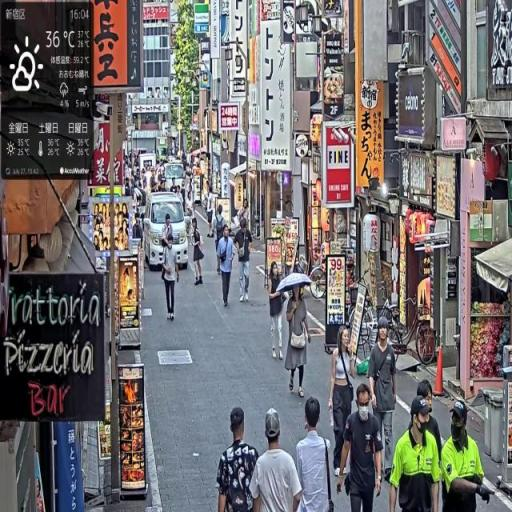person: (387, 392, 442, 512), (337, 382, 386, 512), (251, 408, 305, 512), (440, 400, 489, 512), (368, 320, 399, 491), (295, 397, 337, 512), (217, 407, 263, 512), (329, 326, 360, 476), (286, 283, 312, 400), (268, 260, 287, 364), (217, 224, 239, 311), (161, 236, 181, 323), (235, 219, 254, 304), (192, 222, 206, 287)
